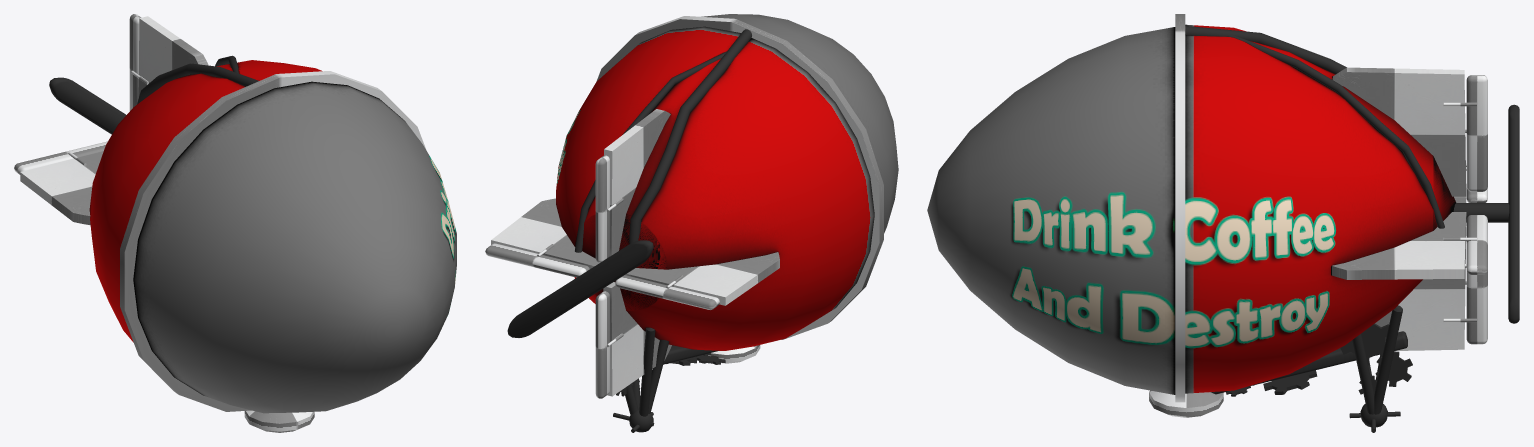
Rendered from zepplin.FBX.
The picture shows the model from 3 angles, left to right: view 1: azimuth 30°, elevation 25°; view 2: azimuth 150°, elevation 25°; view 3: azimuth 270°, elevation 25°; orthographic projection. The views are drawn at different scales.
Visible parts, largest first — view 1: Zepplin_Front, Zepplin_Back, Zepplin_Base, Zepplin_Propeller, Zepplin_Connector; view 2: Zepplin_Back, Zepplin_Base, Zepplin_Front, Zepplin_Propeller, Zepplin_Connector; view 3: Zepplin_Back, Zepplin_Front, Zepplin_Base, Zepplin_Connector, Zepplin_Propeller.
Part boxes in pixels (left/top/right/bottom): Zepplin_Front: left=133, top=81, right=456, bottom=413; Zepplin_Back: left=89, top=55, right=426, bottom=411; Zepplin_Base: left=14, top=14, right=208, bottom=225; Zepplin_Propeller: left=49, top=77, right=126, bottom=134; Zepplin_Connector: left=244, top=410, right=314, bottom=432; Zepplin_Back: left=556, top=16, right=883, bottom=350; Zepplin_Base: left=485, top=109, right=779, bottom=398; Zepplin_Front: left=701, top=14, right=898, bottom=233; Zepplin_Propeller: left=507, top=240, right=653, bottom=337; Zepplin_Connector: left=613, top=327, right=760, bottom=432; Zepplin_Back: left=1175, top=14, right=1509, bottom=402; Zepplin_Front: left=927, top=27, right=1175, bottom=394; Zepplin_Base: left=1332, top=67, right=1487, bottom=350; Zepplin_Connector: left=1149, top=305, right=1412, bottom=432; Zepplin_Propeller: left=1508, top=104, right=1519, bottom=323.
Bounding box in the file's own units: 71.94 × 111 × 81.1.
